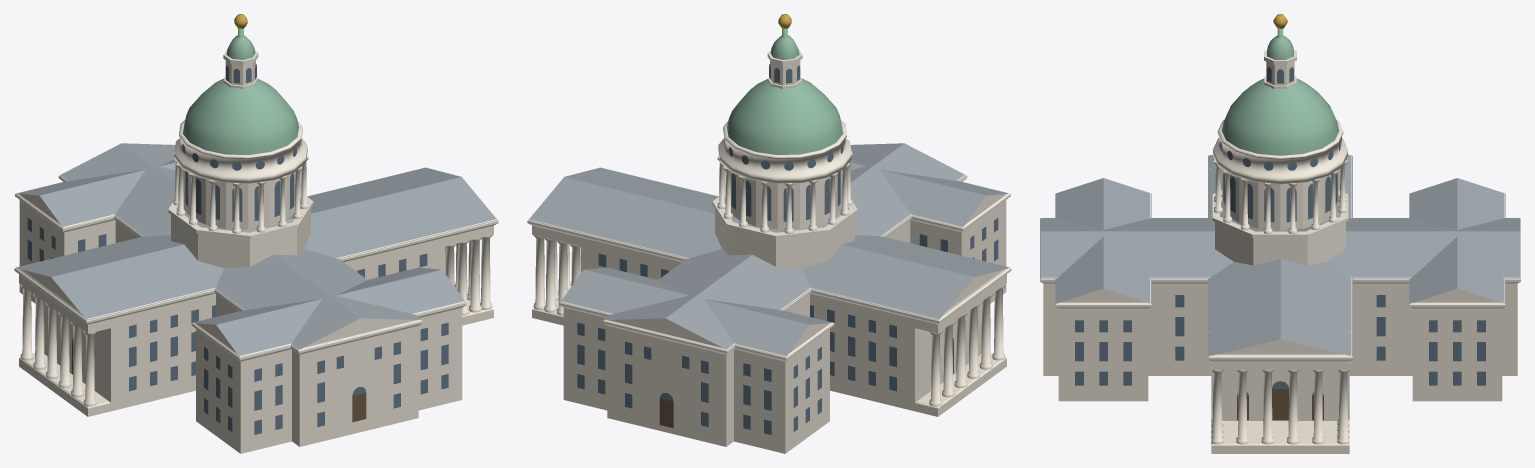
File: stl-old-courthouse.glb
The picture shows the model from 3 angles, left to right: view 1: azimuth 30°, elevation 25°; view 2: azimuth 150°, elevation 25°; view 3: azimuth 270°, elevation 25°; orthographic projection.
Parts seen in each view (by area): view 1: Old Courthouse; view 2: Old Courthouse; view 3: Old Courthouse.
Part boxes in pixels (x1,y1,x2,y2): Old Courthouse: [14, 14, 498, 453]; Old Courthouse: [527, 14, 1011, 453]; Old Courthouse: [1040, 14, 1520, 453].
Bounding box in the file's own units: 71.4 × 54.9 × 72.
